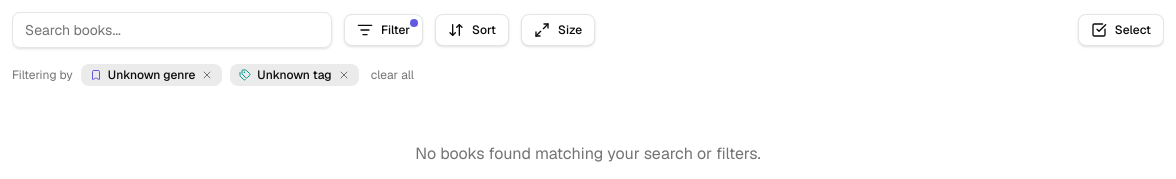
Test case: Home active filter chips › shows a removable chip for a selected tag or genre that no longer exists
This screenshot has width=1176, height=179.
Expected: the text "Unknown genre" is shown, 108,67 -> 195,83
Click the button with aria-label "Remove Unknown tag" at (294, 75), box 230,64 -> 359,86
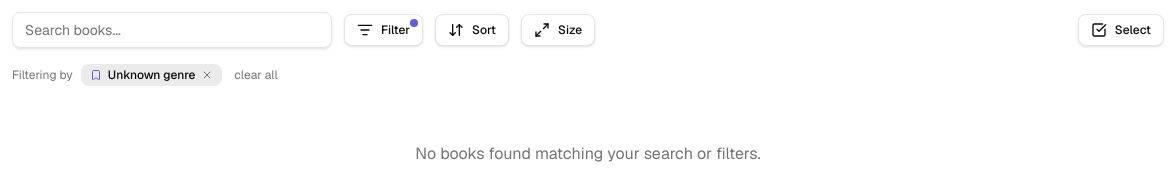
Expected: the button "Unknown tag" is gone
